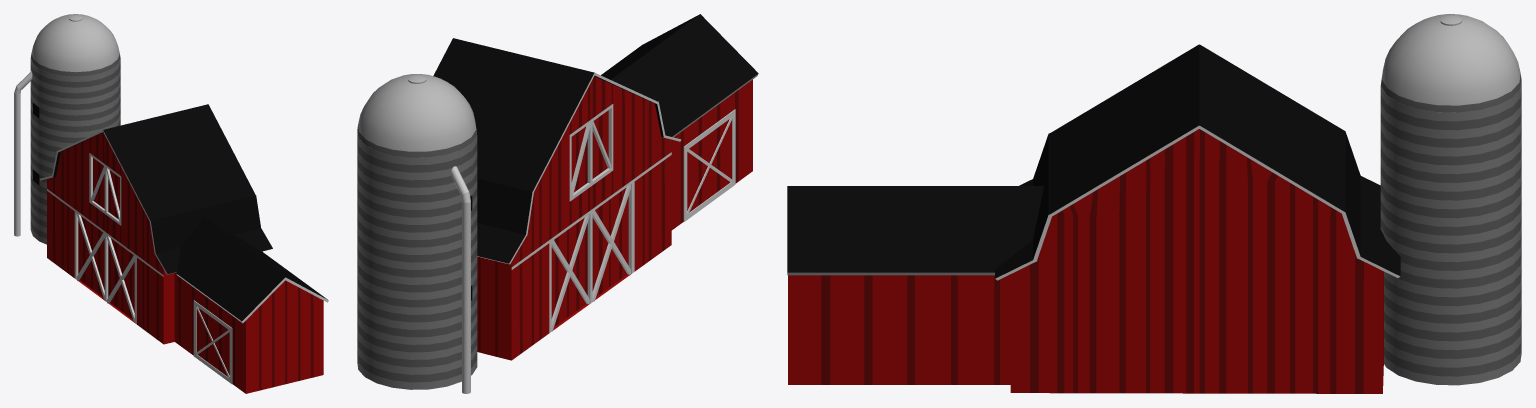
Rendered from Vegetable Castle final.fbx.
3 views of the same model, side by side, from view 1: azimuth 30°, elevation 25°; view 2: azimuth 150°, elevation 25°; view 3: azimuth 270°, elevation 25° (orthographic). The views are drawn at different scales.
Visible parts, largest first — view 1: pCube320; view 2: pCube320; view 3: pCube320.
Part boxes in pixels (x1,y1,x2,y2): pCube320: [14, 14, 328, 393]; pCube320: [357, 14, 758, 393]; pCube320: [787, 14, 1521, 393].
Size of the model in its own units: 5.66 by 11.05 by 21.63.
